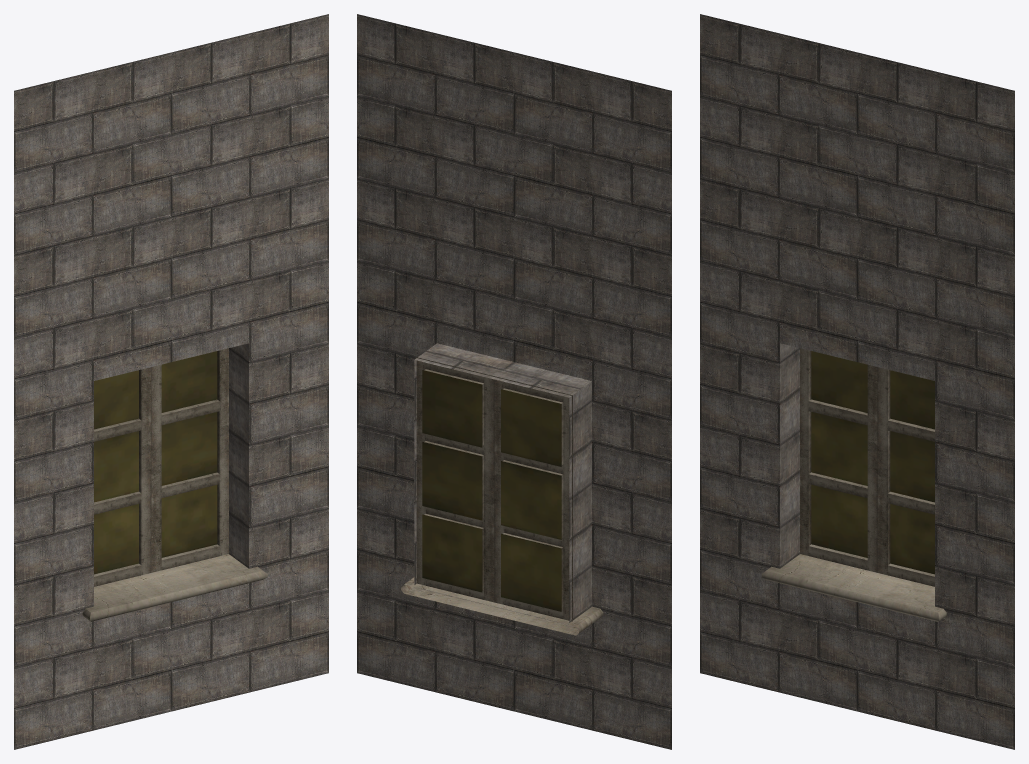
The model's file is exterior_walls_bare_window_02.DAE.
3 renders of one model, left to right at view 1: azimuth 30°, elevation 25°; view 2: azimuth 150°, elevation 25°; view 3: azimuth 330°, elevation 25°, orthographic.
Visible parts, largest first — view 1: Box014, Object008, Object007; view 2: Box014, Object008, Object007; view 3: Box014, Object008, Object007.
Part boxes in pixels (x1,y1,x2,y2): Box014: [14, 14, 328, 749]; Object008: [94, 351, 217, 574]; Object007: [82, 348, 267, 621]; Box014: [357, 14, 671, 749]; Object008: [422, 370, 561, 611]; Object007: [401, 357, 603, 635]; Box014: [700, 14, 1014, 749]; Object008: [811, 351, 934, 574]; Object007: [761, 348, 946, 621].
Size of the model in its own units: 4 by 8 by 0.6922.
